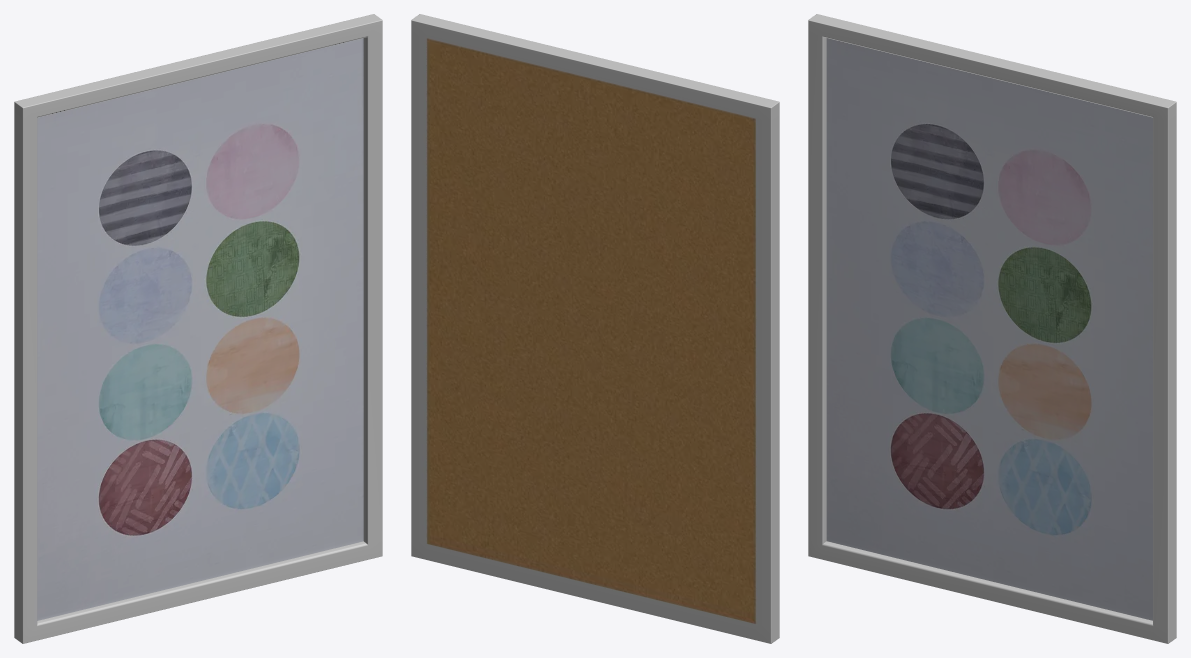
Rendered from abo-B073P19TL4.glb.
3 renders of one model, left to right at view 1: azimuth 30°, elevation 25°; view 2: azimuth 150°, elevation 25°; view 3: azimuth 330°, elevation 25°, orthographic.
Bounding box in the file's own units: 0.305 × 0.434 × 0.013.
Materials: 1 (1 with a texture image).
